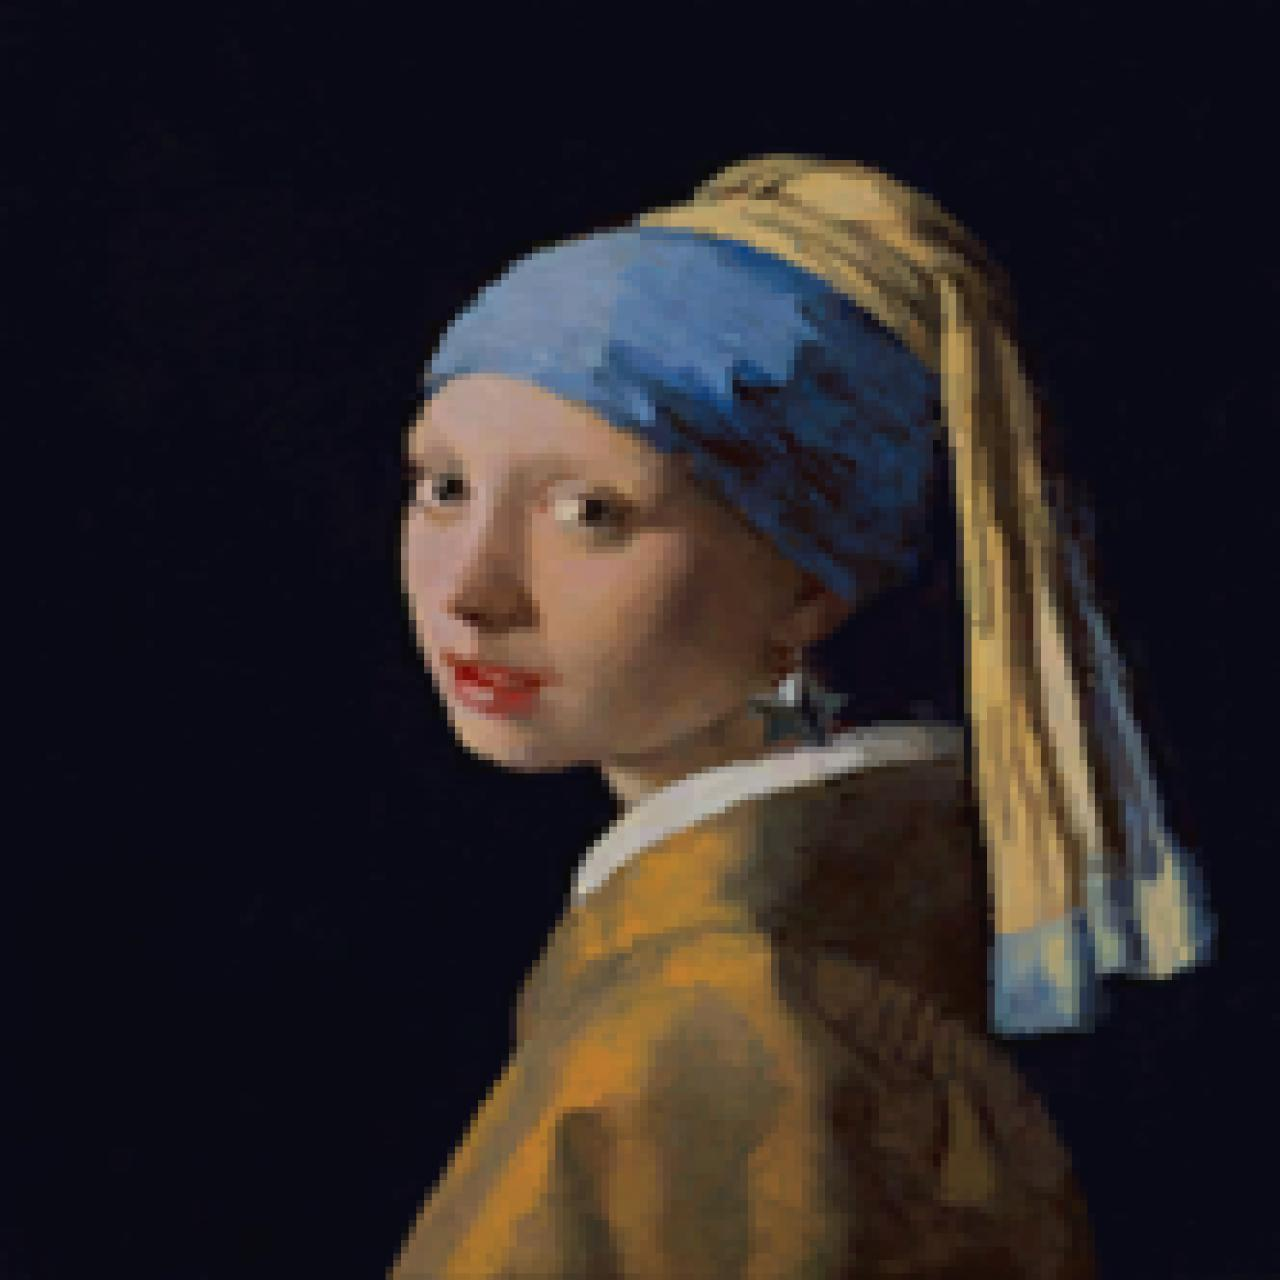PearlEarringFake: (1, 1, 1274, 1275)
